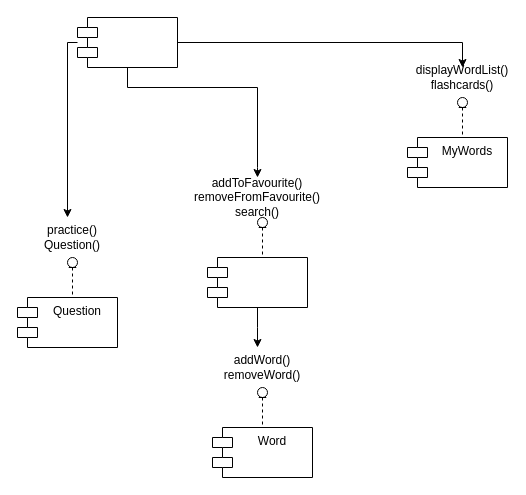
The diagram is 526 pixels wide and 495 high, and some of its shapes have lost their labels. The box of each missing label's shape, as (x1, y1, x2, y2) in pixels:
Main: (76, 16, 178, 68)
WordList: (206, 256, 308, 308)
